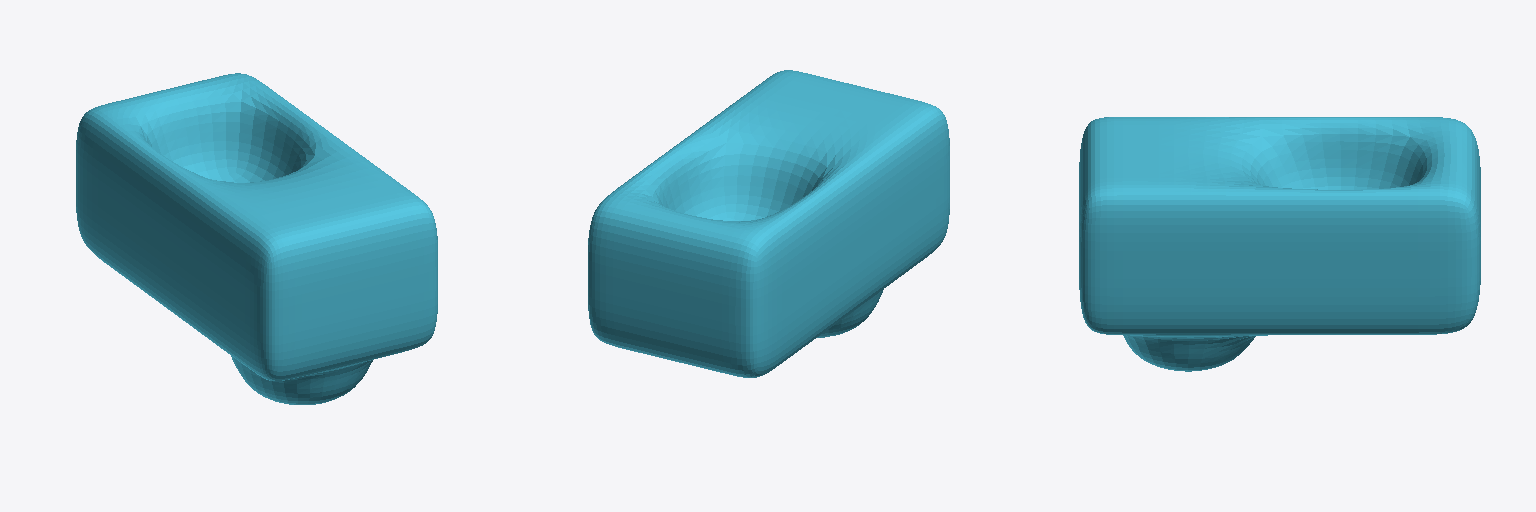
The model's file is 2021-11_Testobject_1.obj.
3 views of the same model, side by side, from view 1: azimuth 30°, elevation 25°; view 2: azimuth 150°, elevation 25°; view 3: azimuth 270°, elevation 25° (orthographic).
Parts seen in each view (by area): view 1: Box001; view 2: Box001; view 3: Box001.
Boxes of the visible parts, x1,y1,x2,y2 form: Box001: [76, 73, 437, 404]; Box001: [588, 70, 949, 377]; Box001: [1079, 117, 1480, 371].
Bounding box in the file's own units: 12.49 × 14.01 × 24.38.